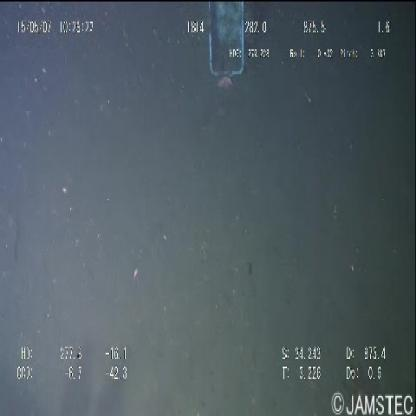Rác: (204, 1, 251, 88)
